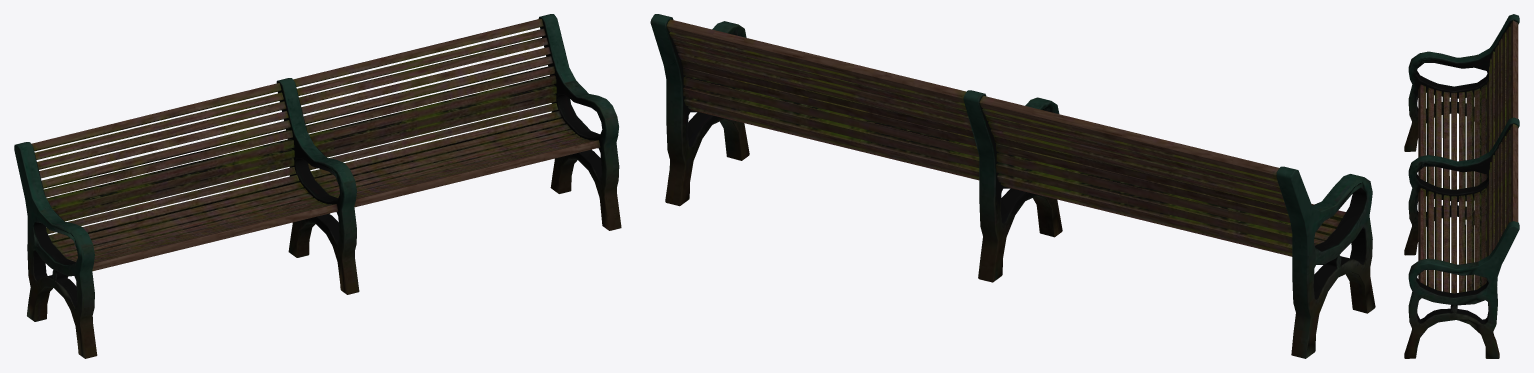
The model's file is z_banco.glb.
3 renders of one model, left to right at view 1: azimuth 30°, elevation 25°; view 2: azimuth 150°, elevation 25°; view 3: azimuth 270°, elevation 25°, orthographic. The views are drawn at different scales.
Visible parts, largest first — view 1: Bench; view 2: Bench; view 3: Bench.
Part boxes in pixels (left/top/right/bottom): Bench: left=14, top=14, right=621, bottom=358; Bench: left=650, top=14, right=1375, bottom=358; Bench: left=1404, top=14, right=1519, bottom=358.
Bounding box in the file's own units: 205 × 60.11 × 47.01.
Materials: 2 (2 with a texture image).
